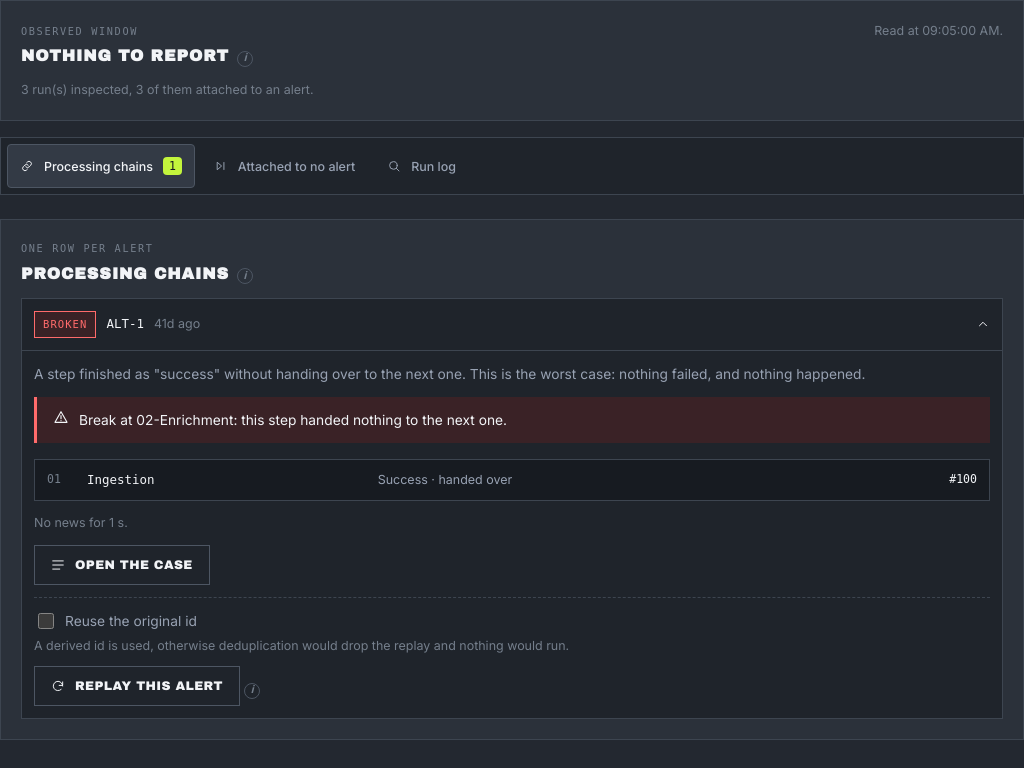
Test: a sentence produced by a button lands in a live region › Tracking — the replay answer
The width and height of the screenshot is (1024, 768).
Click the button "Replay this alert": (137, 686) [34,666,240,706]
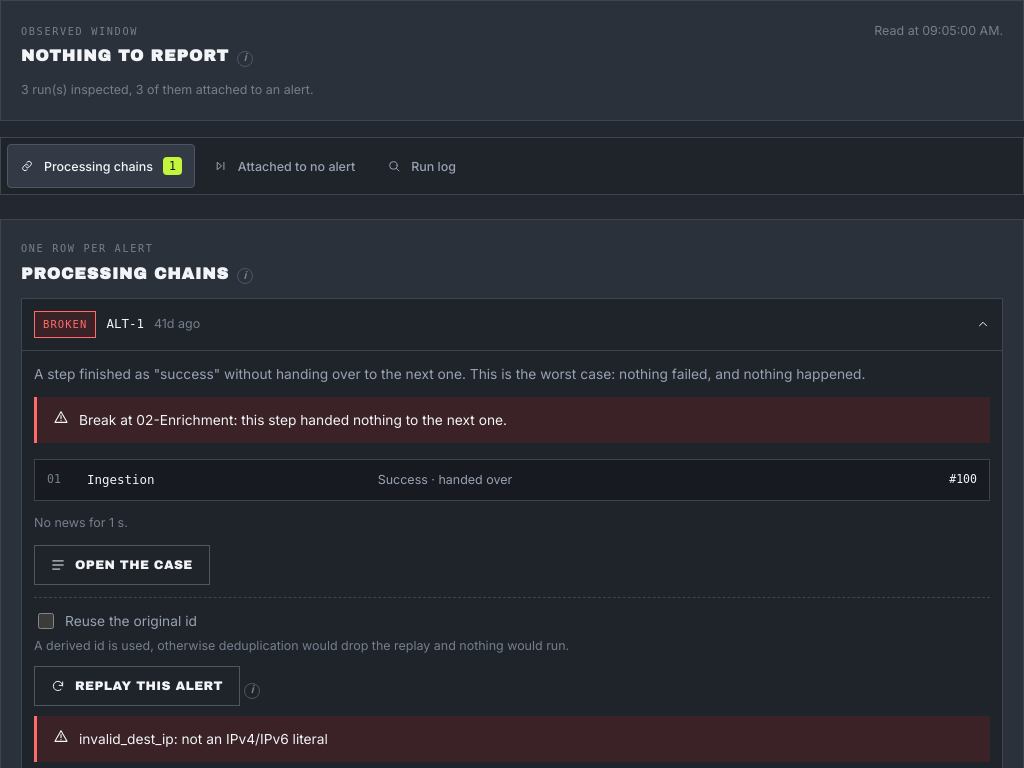
Check: the text "invalid_dest_ip: not an IPv4/IPv6 literal" is shown, box [34,716,990,762]
